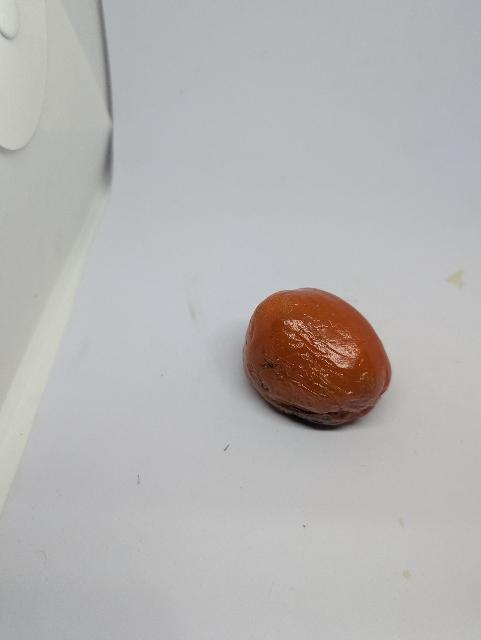defect: (241, 285, 394, 431)
